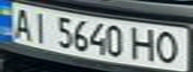0: (106, 22, 130, 58)
4: (87, 20, 109, 56)
5: (51, 15, 75, 49)
6: (69, 18, 90, 53)
A: (6, 6, 36, 40)
H: (127, 25, 160, 62)
I: (27, 10, 54, 44)
O: (151, 29, 184, 65)
